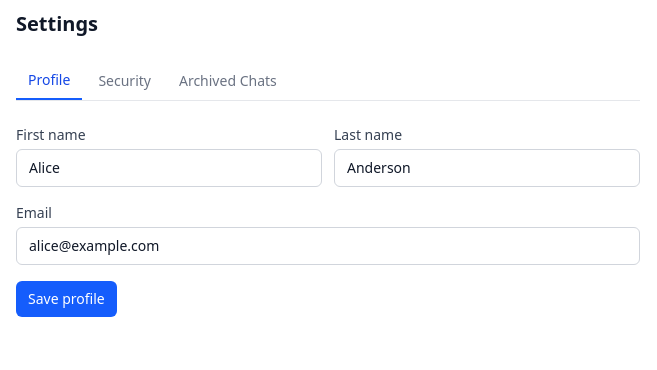
Test case: SettingsPage - Profile tab › pre-fills fields from the current user and saves edits
expect the field showing "Anderson" is shown: met, box [334,149,640,187]
expect the field showing "alice@example.com" is shown: met, box [16,227,640,265]
Step 1. Replace the text in the field showing "Alice" with "Alicia" → (169, 168), box [16,149,322,187]
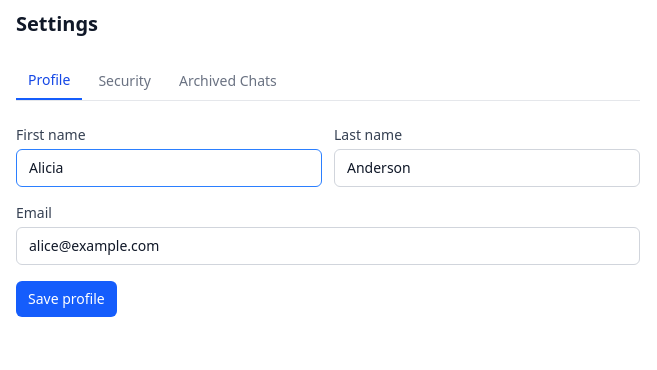
Step 2. Click the button "Save profile" → click(66, 299), box [16,281,117,317]
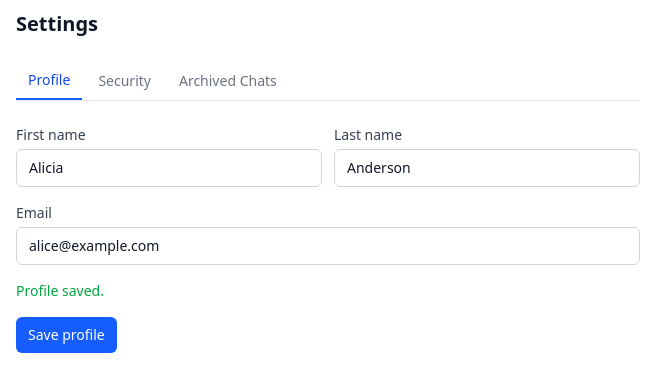
expect the text "Profile saved." is shown: met, box [16,281,104,300]
